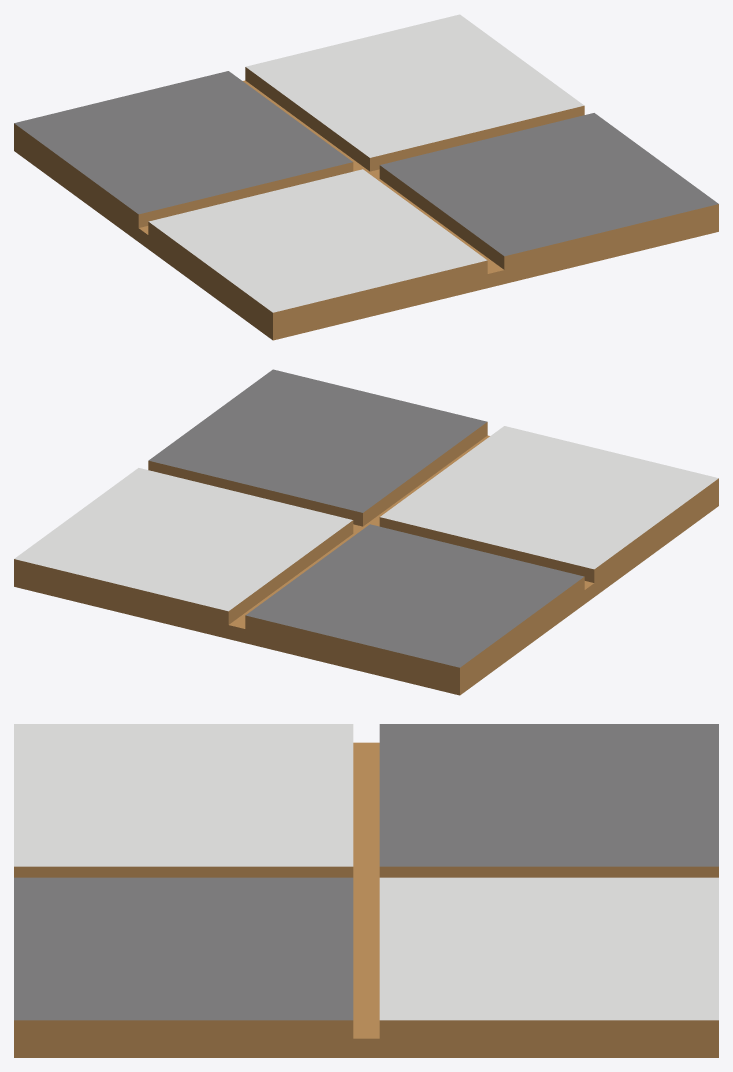
Rendered from suelo.FBX.
3 views of the same model, one above another, from view 1: azimuth 30°, elevation 25°; view 2: azimuth 150°, elevation 25°; view 3: azimuth 270°, elevation 25° (orthographic). The views are drawn at different scales.
Parts seen in each view (by area): view 1: Suelo; view 2: Suelo; view 3: Suelo.
Boxes of the visible parts, x1,y1,x2,y2 form: Suelo: (14, 14, 718, 340); Suelo: (14, 369, 718, 695); Suelo: (14, 724, 718, 1057).
Bounding box in the file's own units: 39.39 × 2.34 × 39.63.
